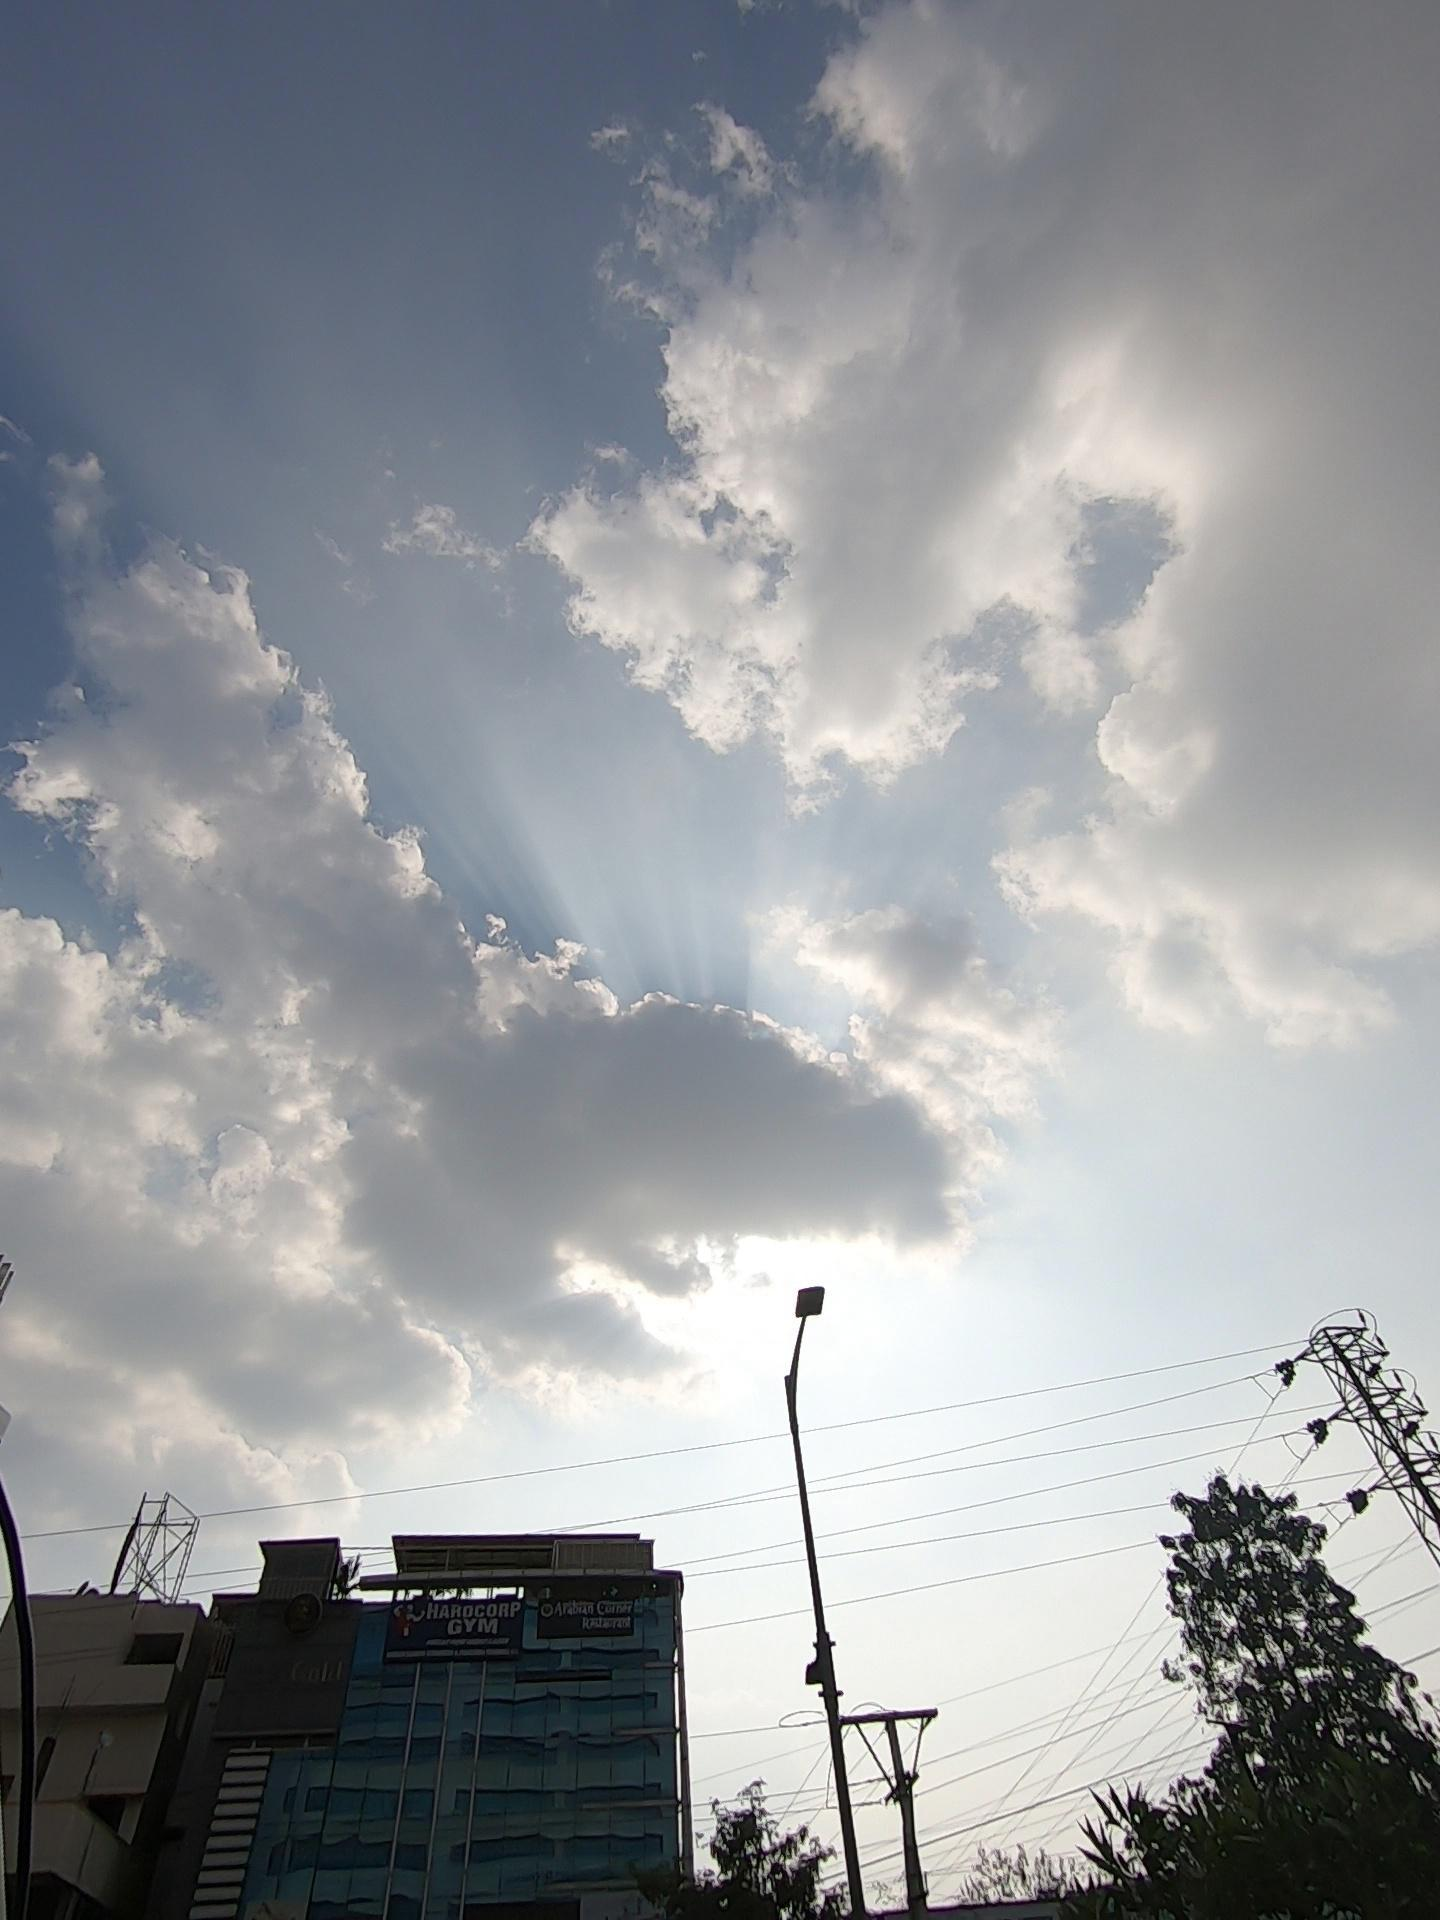off: (720, 1211, 888, 1640)
